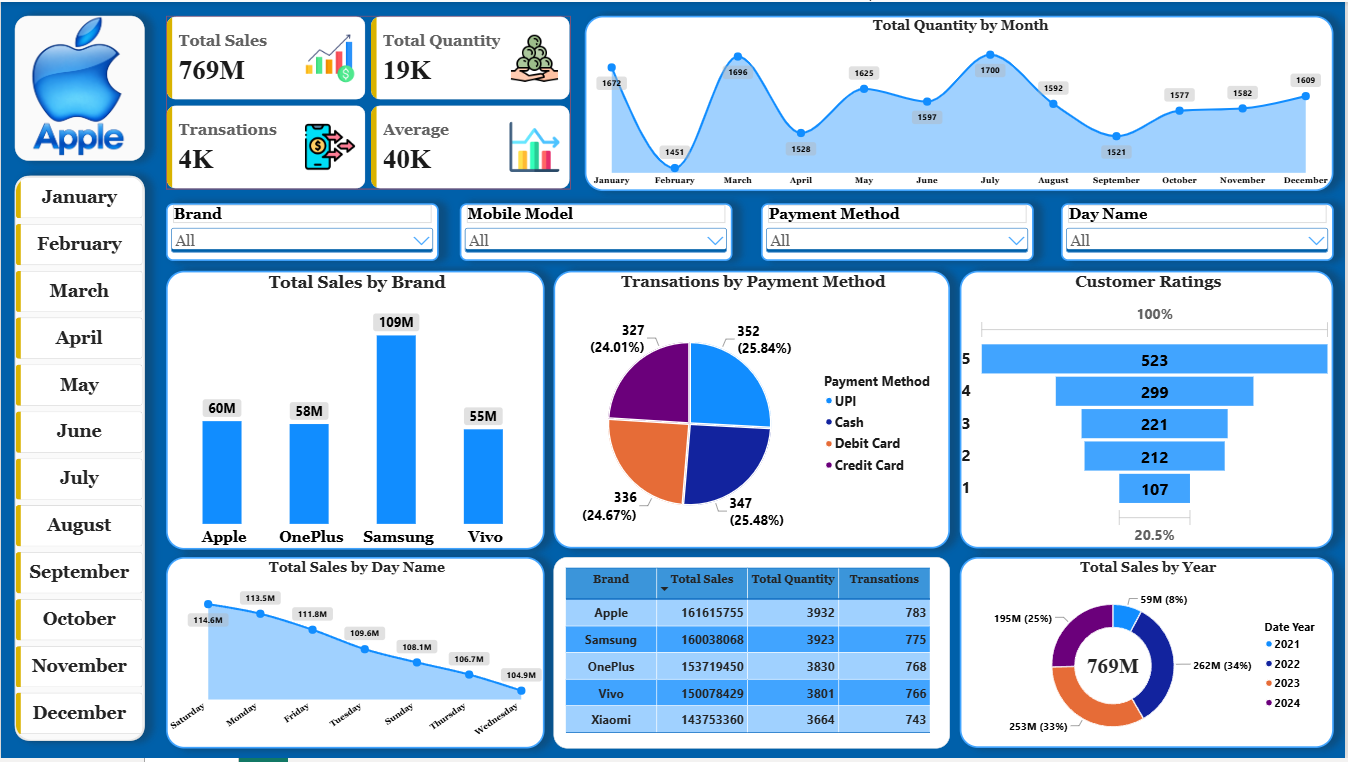

Layout of this report page (visuals, bound fields, positions):
{"tool":"powerbi","page":{"name":"Page 1","canvas":[1920,1080],"ordinal":0},"visuals":[{"type":"shape","box":[19.6,248.2,185.7,807.1],"z":0},{"type":"advancedSlicerVisual","fields":{"Values":["Sheet1.Date.Variation.Date Hierarchy.Month"]},"box":[19.6,248.2,185.7,807.1],"z":1000},{"type":"shape","box":[19.6,19.6,185.7,207.1],"z":2000},{"type":"cardVisual","fields":{"Data":["Mobile Sale Data.Total Sales","Mobile Sale Data.Total Saless","Mobile Sale Data.Test Rows","Mobile Sale Data.Average"]},"box":[235.7,19.6,578.6,250],"z":3000},{"type":"lineChart","fields":{"Category":["Mobile Sale Data.Date.Variation.Date Hierarchy.Month","Mobile Sale Data.Date.Variation.Date Hierarchy.Day"],"Y":["Mobile Sale Data.Total Quantity"]},"box":[833.9,19.6,1069.6,250],"z":4000},{"type":"clusteredColumnChart","fields":{"Category":["Mobile Sale Data.Brand","Mobile Sale Data.Mobile Model"],"Y":["Mobile Sale Data.Total Sales"]},"box":[235.7,383.9,541.1,398.2],"z":5000},{"type":"pieChart","fields":{"Category":["Mobile Sale Data.Payment Method"],"Y":["Mobile Sale Data.Transations"]},"box":[789.3,383.9,566.1,396.4],"z":6000},{"type":"funnel","title":"Customer Ratings","fields":{"Category":["Mobile Sale Data.Customer Ratings"],"Y":["CountNonNull(Mobile Sale Data.Customer Ratings)"]},"box":[1369.6,383.9,533.9,396.4],"z":7000},{"type":"areaChart","fields":{"Category":["Mobile Sale Data.Day Name"],"Y":["Mobile Sale Data.Total Sales"]},"box":[235.7,792.9,541.1,273.2],"z":8000},{"type":"tableEx","fields":{"Values":["Mobile Sale Data.Brand","Mobile Sale Data.Total Sales","Mobile Sale Data.Total Quantity","Mobile Sale Data.Transations"]},"box":[789.3,792.9,566.1,273.2],"z":9000},{"type":"slicer","fields":{"Values":["Mobile Sale Data.Brand"]},"box":[235.7,287.5,389.3,82.1],"z":10000},{"type":"slicer","fields":{"Values":["Mobile Sale Data.Mobile Model"]},"box":[655.4,287.5,389.3,82.1],"z":11000},{"type":"slicer","fields":{"Values":["Mobile Sale Data.Payment Method"]},"box":[1085.7,287.5,389.3,82.1],"z":12000},{"type":"slicer","fields":{"Values":["Mobile Sale Data.Day Name"]},"box":[1514.3,287.5,389.3,82.1],"z":13000},{"type":"donutChart","fields":{"Category":["Mobile Sale Data.Date.Variation.Date Hierarchy.Year"],"Y":["Mobile Sale Data.Total Sales"]},"box":[1370,793,534,273],"z":14000},{"type":"image","box":[0,8.9,214.3,226.8],"z":15000}]}

Visuals, with their boxes in screenshot pixels (x1, y1, x2, y2), scaled from the page's 1920x1080 canvas onto the 1348x762 screenshot:
shape: <region>14, 175, 144, 745</region>
advancedSlicerVisual - Sheet1.Date.Variation.Date Hierarchy.Month: <region>14, 175, 144, 745</region>
shape: <region>14, 14, 144, 160</region>
cardVisual - Mobile Sale Data.Total Sales x Mobile Sale Data.Total Saless: <region>165, 14, 572, 190</region>
lineChart - Mobile Sale Data.Date.Variation.Date Hierarchy.Month x Mobile Sale Data.Date.Variation.Date Hierarchy.Day: <region>585, 14, 1336, 190</region>
clusteredColumnChart - Mobile Sale Data.Brand x Mobile Sale Data.Mobile Model: <region>165, 271, 545, 552</region>
pieChart - Mobile Sale Data.Payment Method x Mobile Sale Data.Transations: <region>554, 271, 952, 551</region>
"Customer Ratings" funnel: <region>962, 271, 1336, 551</region>
areaChart - Mobile Sale Data.Day Name x Mobile Sale Data.Total Sales: <region>165, 559, 545, 752</region>
tableEx - Mobile Sale Data.Brand x Mobile Sale Data.Total Sales: <region>554, 559, 952, 752</region>
slicer - Mobile Sale Data.Brand: <region>165, 203, 439, 261</region>
slicer - Mobile Sale Data.Mobile Model: <region>460, 203, 733, 261</region>
slicer - Mobile Sale Data.Payment Method: <region>762, 203, 1036, 261</region>
slicer - Mobile Sale Data.Day Name: <region>1063, 203, 1336, 261</region>
donutChart - Mobile Sale Data.Date.Variation.Date Hierarchy.Year x Mobile Sale Data.Total Sales: <region>962, 560, 1337, 752</region>
image: <region>0, 6, 150, 166</region>
